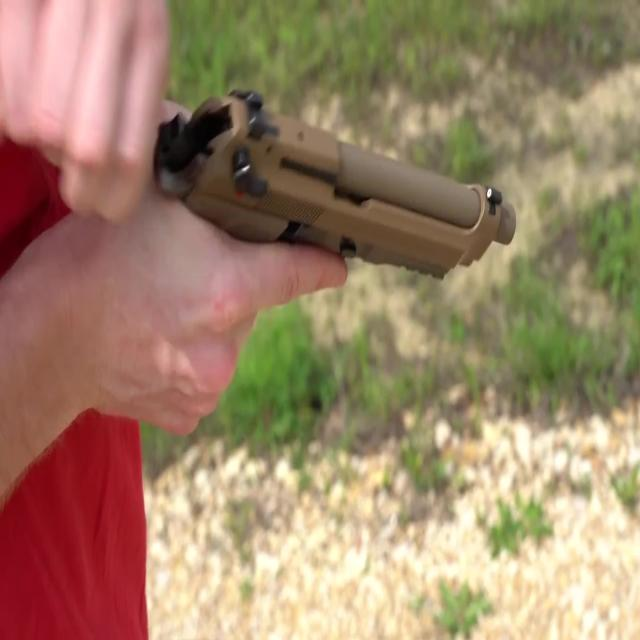Weapon: (132, 59, 547, 406)
